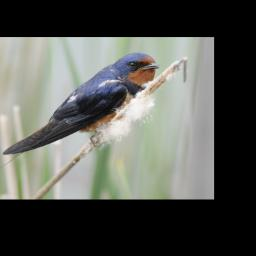Swallow: (2, 52, 161, 155)
